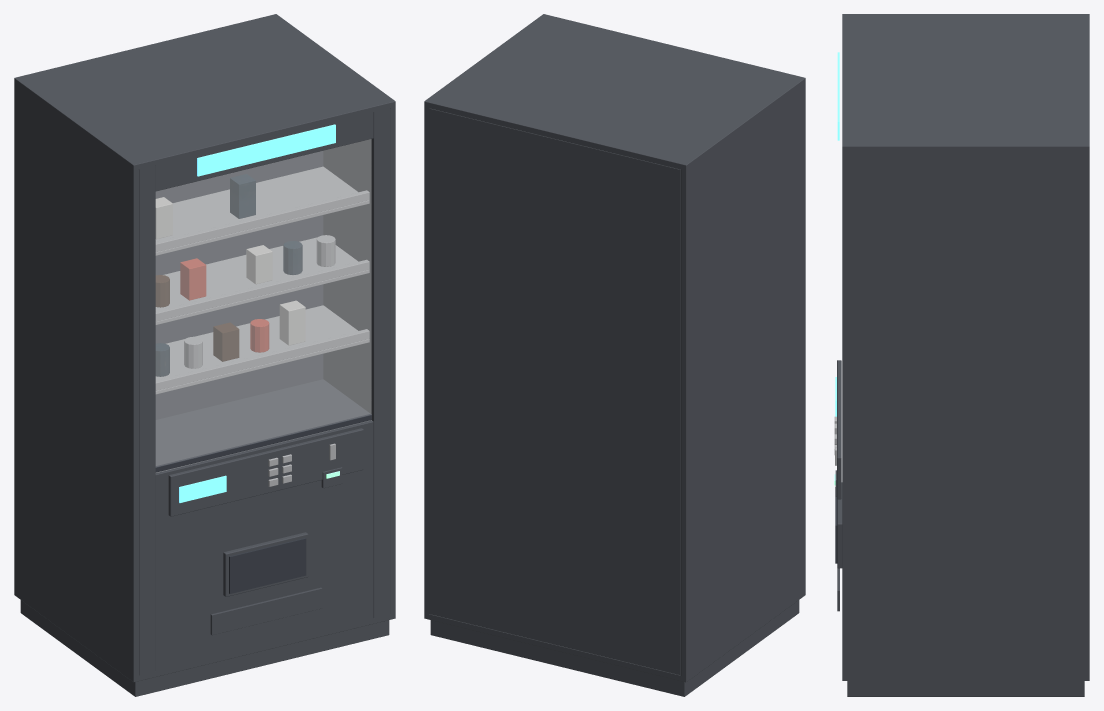
The model's file is vending_machine.glb.
3 views of the same model, side by side, from view 1: azimuth 30°, elevation 25°; view 2: azimuth 150°, elevation 25°; view 3: azimuth 270°, elevation 25° (orthographic). The views are drawn at different scales.
Parts seen in each view (by area): view 1: VendingMachine; view 2: VendingMachine; view 3: VendingMachine.
Part boxes in pixels (x1,y1,x2,y2): VendingMachine: [14, 14, 395, 696]; VendingMachine: [424, 14, 805, 696]; VendingMachine: [834, 14, 1089, 696].
Size of the model in its own units: 1.14 by 2.22 by 0.9288.
